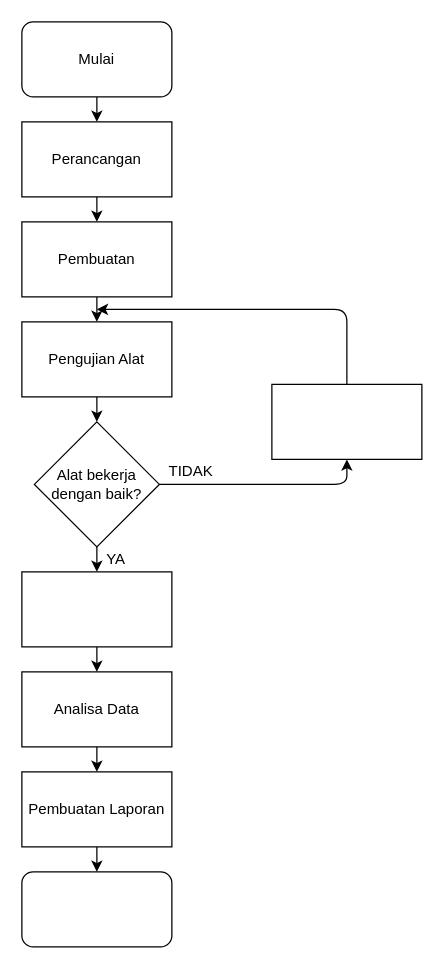
The diagram is 444 pixels wide and 969 high, and some of its shapes have lost their labels. Here are the shapes that lost their labels. From the top down, the centre of each, then its label:
At pixel 346 421: "Perbaikan dan Penyempurnaan".
At pixel 96 609: "Pengambilan Data".
At pixel 96 909: "Selesai".
